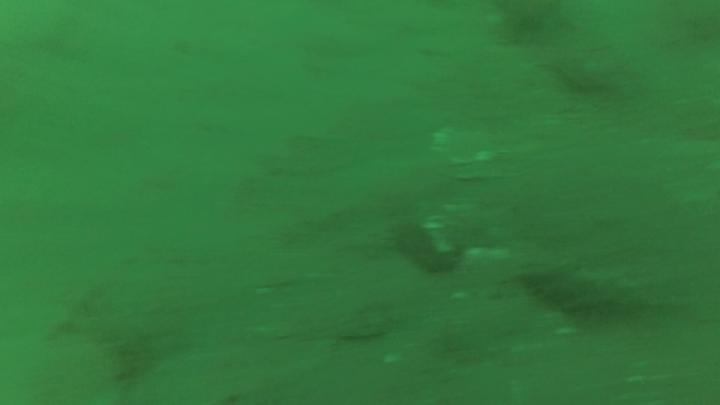holothurian: (511, 240, 646, 317)
